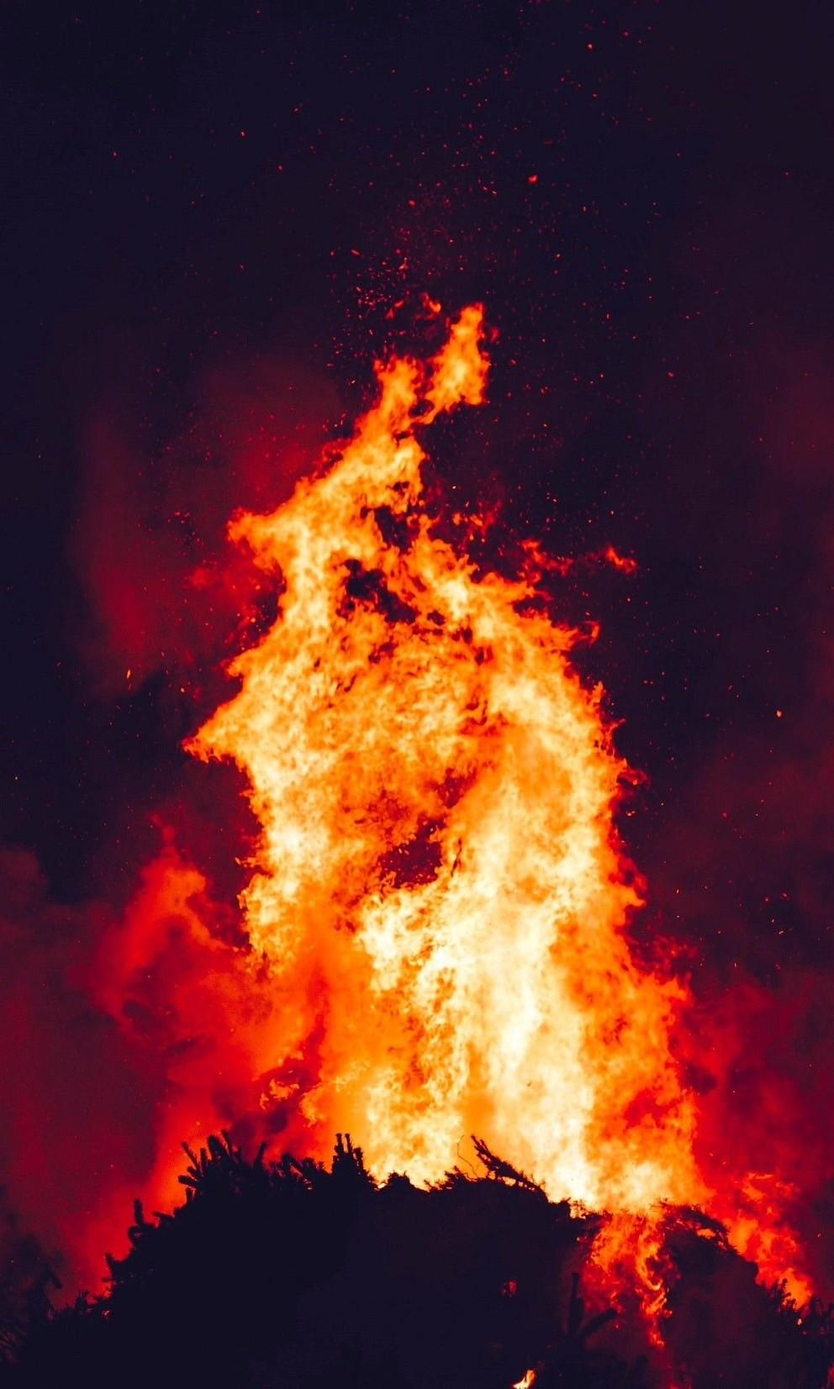fire: (57, 304, 767, 1389)
